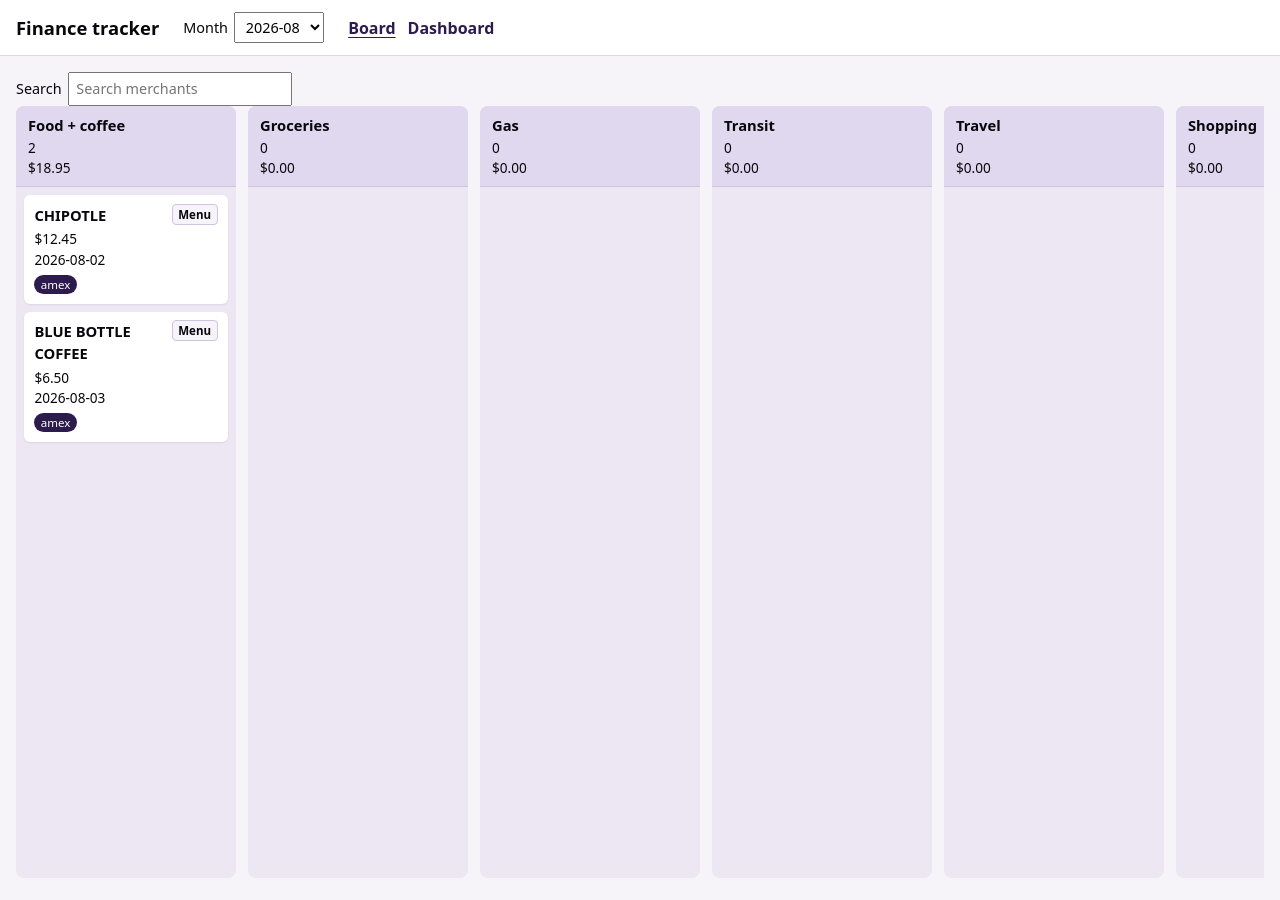
Test: App month switcher › restores the exclusive August set after switching back
Select "2026-07" in the dropdown labelled "Month": (279, 28) [234,12,324,43]
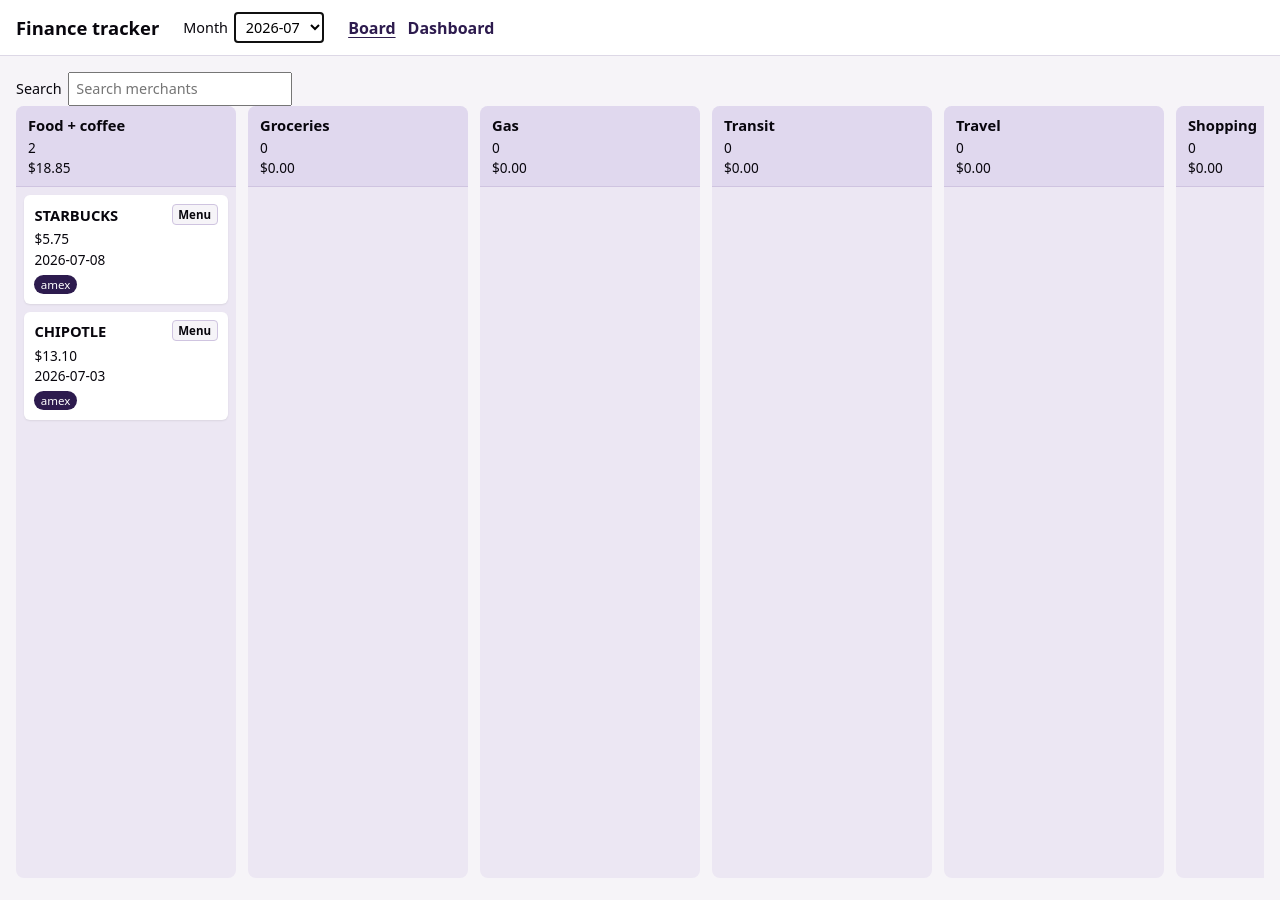
Check: the heading "STARBUCKS" is shown, box [34,205,118,225]
Select "2026-08" in the dropdown labelled "Month": (279, 28) [234,12,324,43]
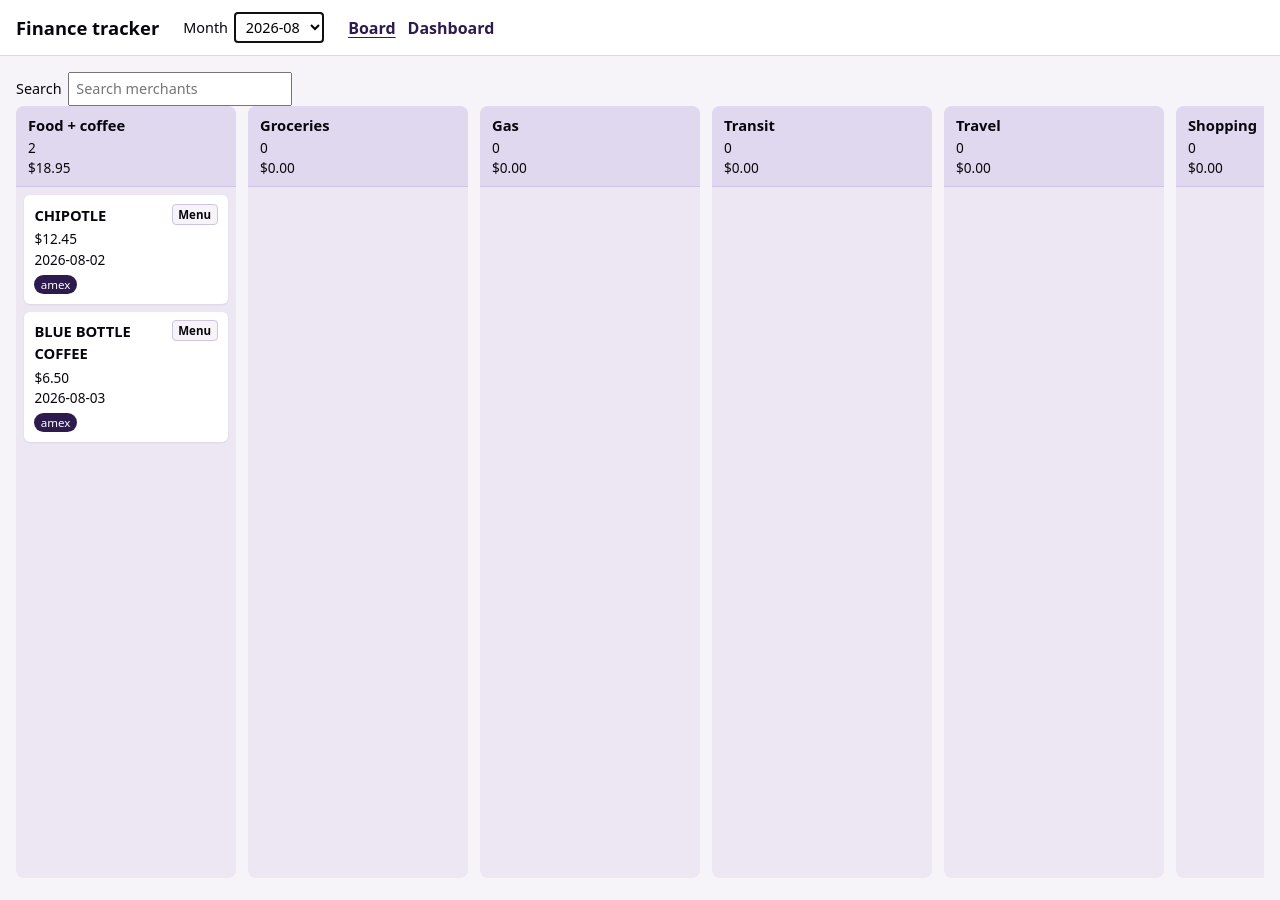
Check: the button "STARBUCKS" no longer shows "STARBUCKS"
